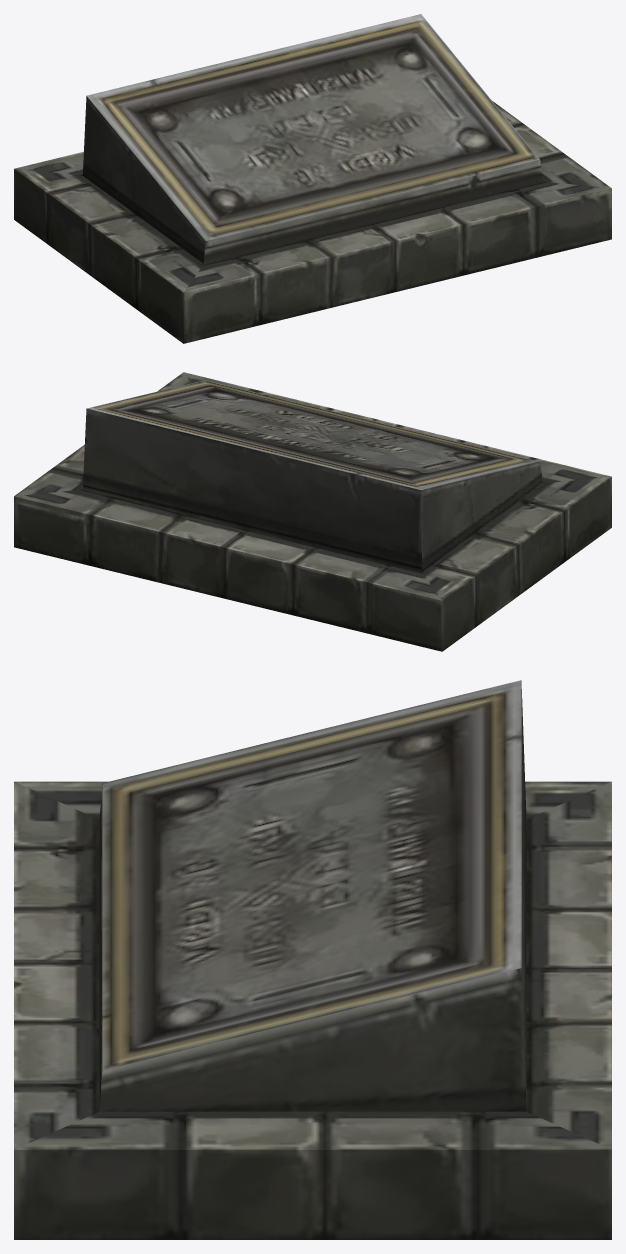
Rendered from TyrantTomb03.FBX.
3 views of the same model, one above another, from view 1: azimuth 30°, elevation 25°; view 2: azimuth 150°, elevation 25°; view 3: azimuth 270°, elevation 25° (orthographic). The views are drawn at different scales.
Parts seen in each view (by area): view 1: TyrantTomb03; view 2: TyrantTomb03; view 3: TyrantTomb03.
Part boxes in pixels (bbox=[...]): TyrantTomb03: bbox=[14, 14, 611, 343]; TyrantTomb03: bbox=[14, 372, 611, 651]; TyrantTomb03: bbox=[14, 680, 611, 1239].
Size of the model in its own units: 113 by 32.99 by 77.2.
